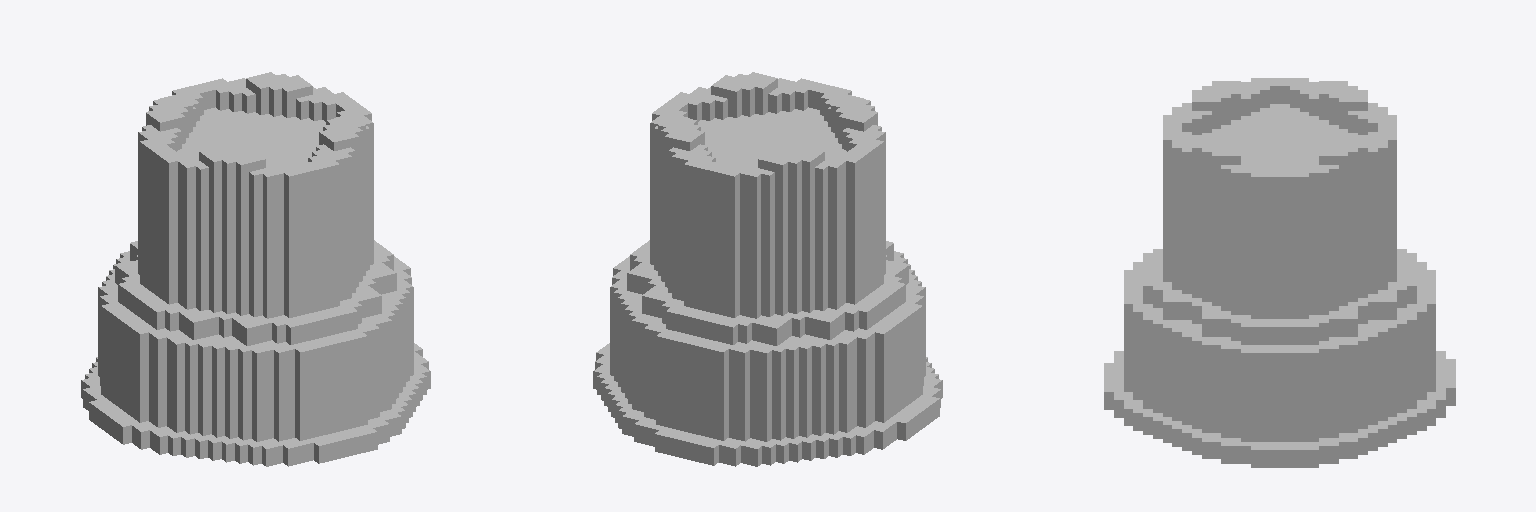
Rendered from StrawberryCake.obj.
3 renders of one model, left to right at view 1: azimuth 30°, elevation 25°; view 2: azimuth 150°, elevation 25°; view 3: azimuth 270°, elevation 25°, orthographic.
Parts seen in each view (by area): view 1: object 1; view 2: object 1; view 3: object 1.
Part boxes in pixels (left/top/right/bottom): object 1: left=81, top=72, right=430, bottom=466; object 1: left=593, top=72, right=942, bottom=466; object 1: left=1104, top=78, right=1455, bottom=467.
Bounding box in the file's own units: 3.6 × 3.1 × 3.6.